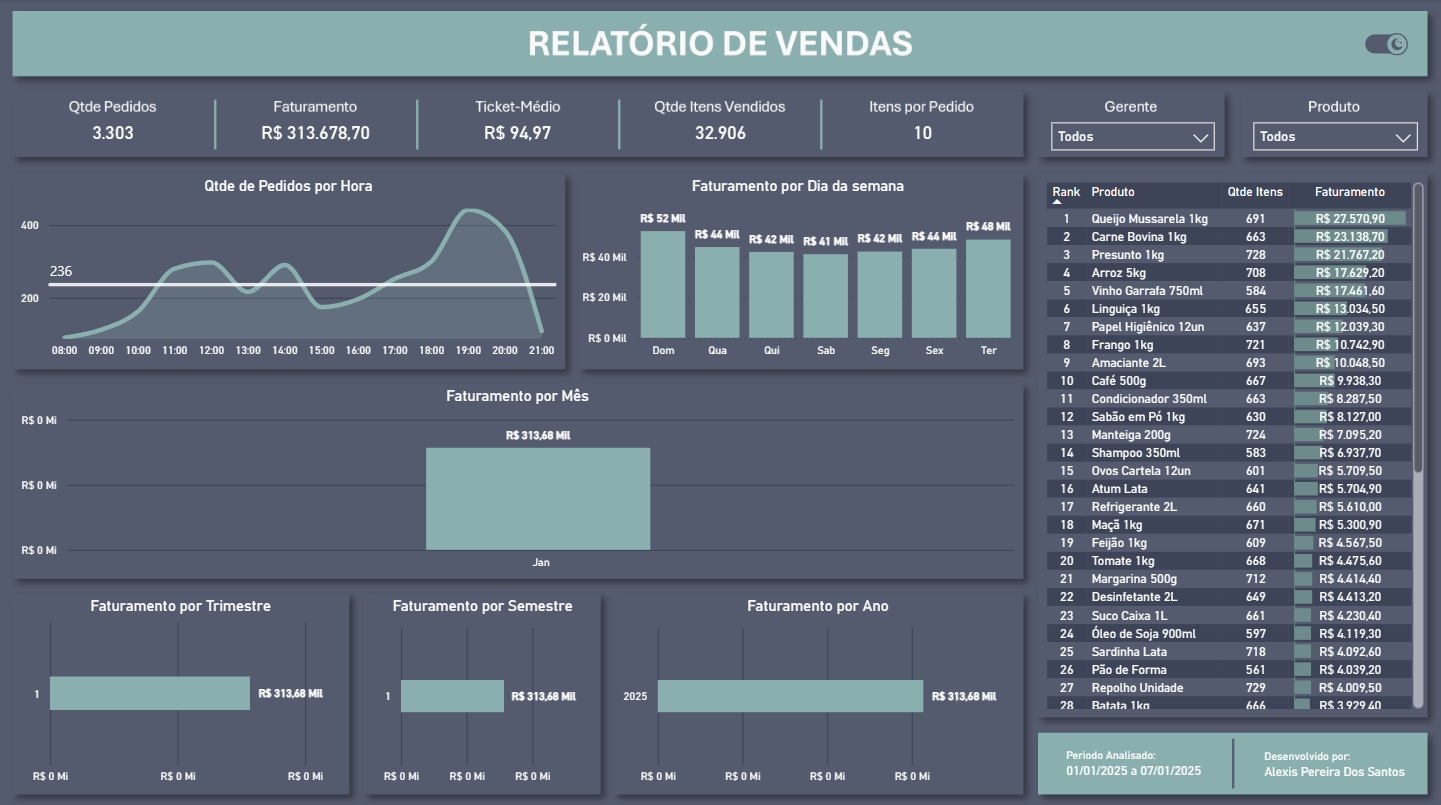

Layout of this report page (visuals, bound fields, positions):
{"tool":"powerbi","page":{"name":"RELATORIO_BI_Dark","canvas":[1280,720],"ordinal":1},"visuals":[{"type":"columnChart","title":"Faturamento por Dia da semana","fields":{"Category":["gold dim_calendario.dia_nome"],"Y":["gold fato_vendas.Faturamento"]},"box":[511.8,158.2,393.6,167.3],"z":0},{"type":"cardVisual","fields":{"Data":["gold fato_vendas.Faturamento"]},"box":[193.8,95,173,44],"z":1000},{"type":"cardVisual","fields":{"Data":["gold fato_vendas.QTD_PEDIDOS"]},"box":[14.7,95,172.7,44],"z":2000},{"type":"cardVisual","fields":{"Data":["gold fato_vendas.QTD_ITENS"]},"box":[553.2,95,173,44],"z":3000},{"type":"cardVisual","fields":{"Data":["gold fato_vendas.ITENS_P_PEDIDO"]},"box":[732.7,95,173.3,44],"z":4000},{"type":"cardVisual","fields":{"Data":["gold fato_vendas.TICKET_MÉDIO"]},"box":[373.3,95,173.3,44],"z":5000},{"type":"columnChart","title":"Faturamento por Mês","fields":{"Category":["gold dim_calendario.mes_abreviado"],"Y":["gold fato_vendas.Faturamento"]},"box":[14.4,343.8,891.2,169.4],"z":6000},{"type":"clusteredBarChart","title":"Faturamento por Ano","fields":{"Category":["gold dim_calendario.ano"],"Y":["gold fato_vendas.Faturamento"]},"box":[547.5,530.6,358.1,172.5],"z":7000},{"type":"clusteredBarChart","title":"Faturamento por Semestre","fields":{"Category":["gold dim_calendario.semestre"],"Y":["gold fato_vendas.Faturamento"]},"box":[325,530.6,206.9,172.5],"z":8000},{"type":"slicer","fields":{"Values":["gold dim_lojas.gerente"]},"box":[922.9,99.2,165.3,39.5],"z":9000},{"type":"slicer","fields":{"Values":["gold dim_produtos.produto"]},"box":[1101.8,99.2,165.8,39.5],"z":10000},{"type":"clusteredBarChart","title":"Faturamento por Trimestre","fields":{"Category":["gold dim_calendario.trimestre"],"Y":["gold fato_vendas.Faturamento"]},"box":[14.4,530.6,293.8,172.5],"z":11000},{"type":"image","box":[1210,30,40,20],"z":12000},{"type":"tableEx","fields":{"Values":["gold fato_vendas.RANK_PROD","gold dim_produtos.produto","gold fato_vendas.QTD_ITENS","gold fato_vendas.Faturamento"]},"box":[922.7,158.2,344.5,476.4],"z":13000},{"type":"cardVisual","fields":{"Data":["gold dim_calendario.data_inicio"]},"box":[928.7,657.2,156.7,41.4],"z":14000},{"type":"cardVisual","fields":{"Data":["gold dim_calendario.Desenvolvido"]},"box":[1105,658,161,41],"z":15000},{"type":"lineChart","title":"Qtde de Pedidos por Hora","fields":{"Category":["gold fato_vendas.inicio_hora"],"Y":["gold fato_vendas.QTD_PEDIDOS"]},"box":[14.4,158.1,485,167.5],"z":16000}]}

Visuals, with their boxes in screenshot pixels (x1, y1, x2, y2), scaled from the page's 1280x720 canvas onto the 1441x805 screenshot:
"Faturamento por Dia da semana" columnChart: locate(576, 177, 1019, 364)
cardVisual - gold fato_vendas.Faturamento: locate(218, 106, 413, 155)
cardVisual - gold fato_vendas.QTD_PEDIDOS: locate(17, 106, 211, 155)
cardVisual - gold fato_vendas.QTD_ITENS: locate(623, 106, 818, 155)
cardVisual - gold fato_vendas.ITENS_P_PEDIDO: locate(825, 106, 1020, 155)
cardVisual - gold fato_vendas.TICKET_MÉDIO: locate(420, 106, 615, 155)
"Faturamento por Mês" columnChart: locate(16, 384, 1020, 574)
"Faturamento por Ano" clusteredBarChart: locate(616, 593, 1020, 786)
"Faturamento por Semestre" clusteredBarChart: locate(366, 593, 599, 786)
slicer - gold dim_lojas.gerente: locate(1039, 111, 1225, 155)
slicer - gold dim_produtos.produto: locate(1240, 111, 1427, 155)
"Faturamento por Trimestre" clusteredBarChart: locate(16, 593, 347, 786)
image: locate(1362, 34, 1407, 56)
tableEx - gold fato_vendas.RANK_PROD x gold dim_produtos.produto: locate(1039, 177, 1427, 710)
cardVisual - gold dim_calendario.data_inicio: locate(1046, 735, 1222, 781)
cardVisual - gold dim_calendario.Desenvolvido: locate(1244, 736, 1425, 782)
"Qtde de Pedidos por Hora" lineChart: locate(16, 177, 562, 364)
